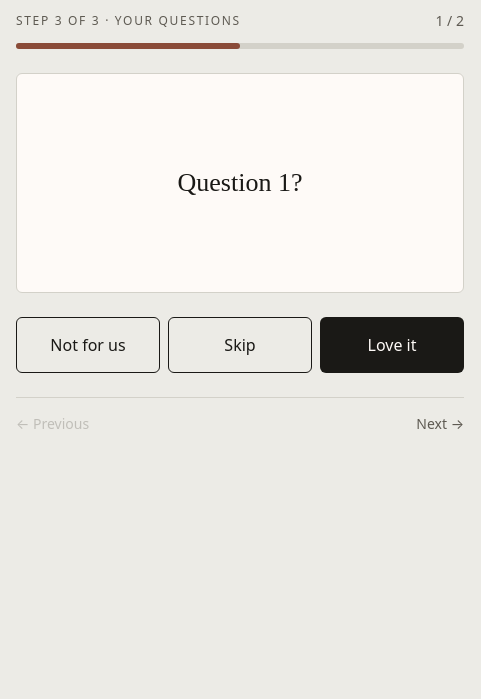
it: discussion questions › feedback needs an account › asks a guest to sign in when they tap Love it, and sends nothing
Click the button "Love it". click: point(392, 345)
box: [320, 317, 464, 373]
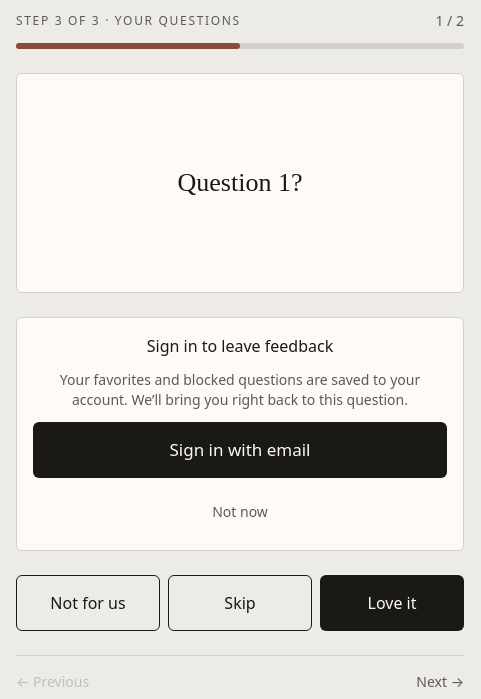
Expected: the text "Question 1?" is shown, [178, 166, 302, 200]
Result: the text "Sign in to leave feedback" is shown at [147, 335, 333, 357]
